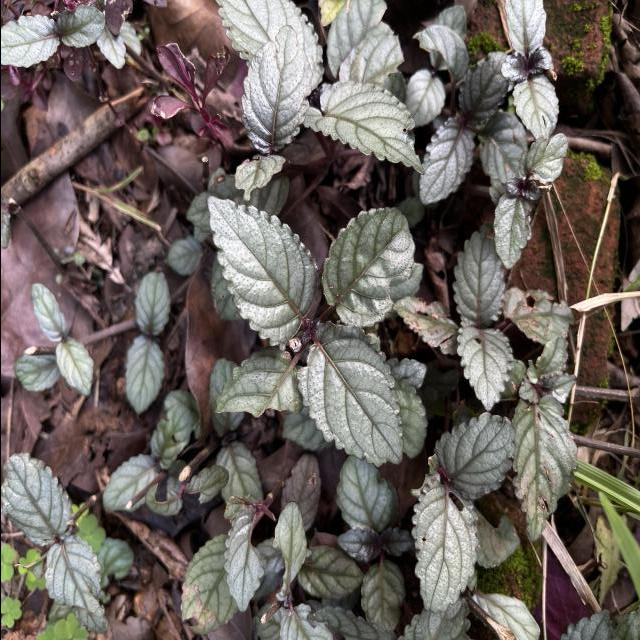Hemigraphis colorata: (203, 193, 319, 354), (292, 319, 406, 469), (317, 205, 416, 332), (298, 79, 426, 177), (508, 394, 579, 546), (408, 480, 481, 616), (238, 22, 312, 154), (429, 409, 516, 502), (0, 450, 72, 548), (42, 533, 108, 636), (448, 226, 508, 326), (453, 322, 514, 413), (413, 117, 474, 205), (0, 10, 60, 70), (508, 74, 560, 140), (122, 338, 166, 416), (490, 192, 532, 272), (130, 268, 172, 338), (502, 0, 547, 56), (27, 282, 67, 342), (56, 2, 107, 49)
